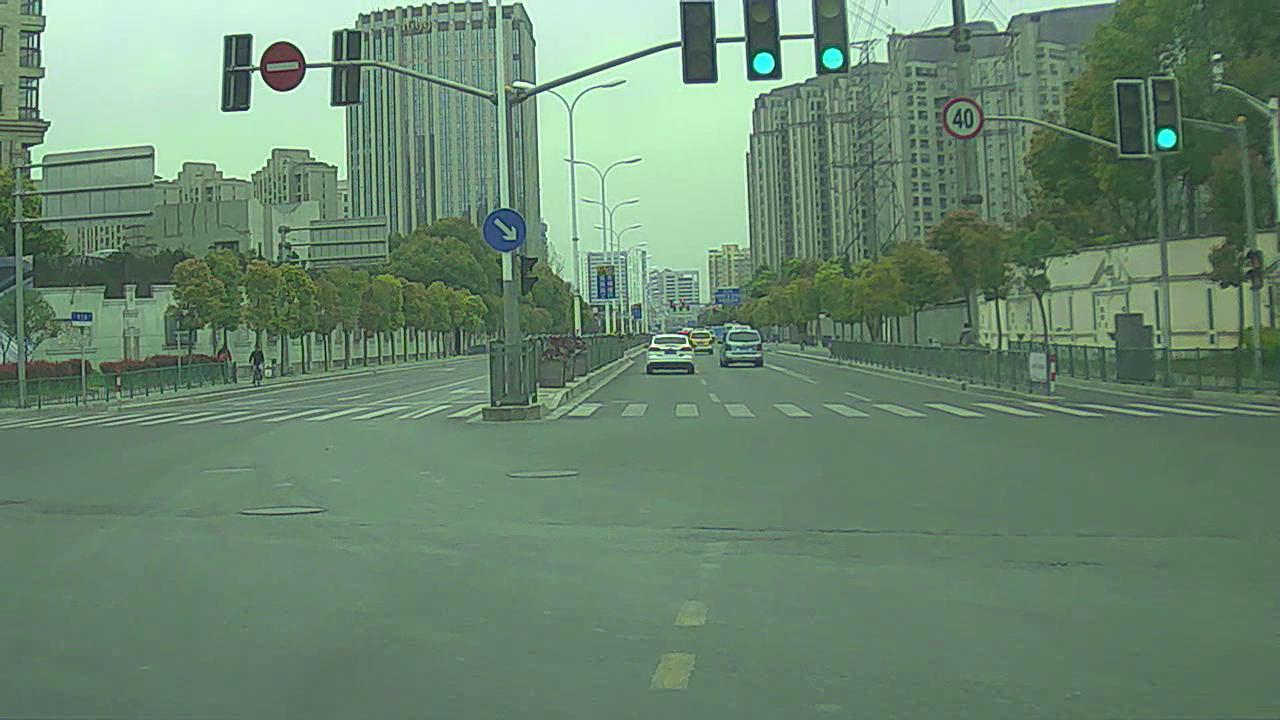traffic_light: (680, 1, 716, 85), (745, 1, 782, 80), (1152, 77, 1186, 155), (1116, 81, 1147, 158), (815, 1, 849, 71)
